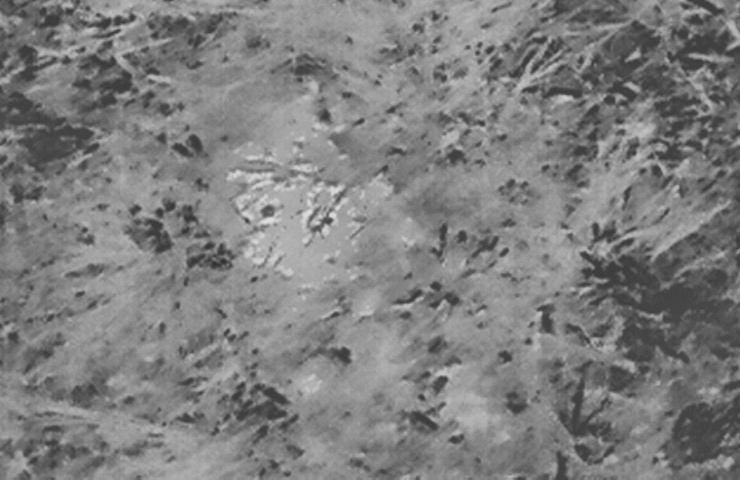landmines: (222, 118, 401, 293)
